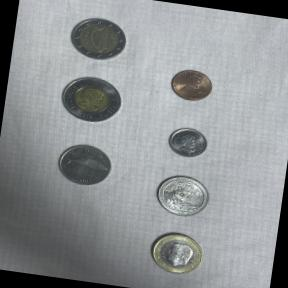1 Euro-B: (142, 226, 212, 282)
2 Euro-B: (61, 9, 136, 70)
Canada-10cent-B: (159, 120, 214, 164)
Canada-2Dollar-B: (51, 66, 134, 132)
Croatia-2Kune-B: (48, 135, 119, 194)
US-1cent-B: (163, 61, 222, 110)
US-25cent-B: (147, 168, 216, 223)
